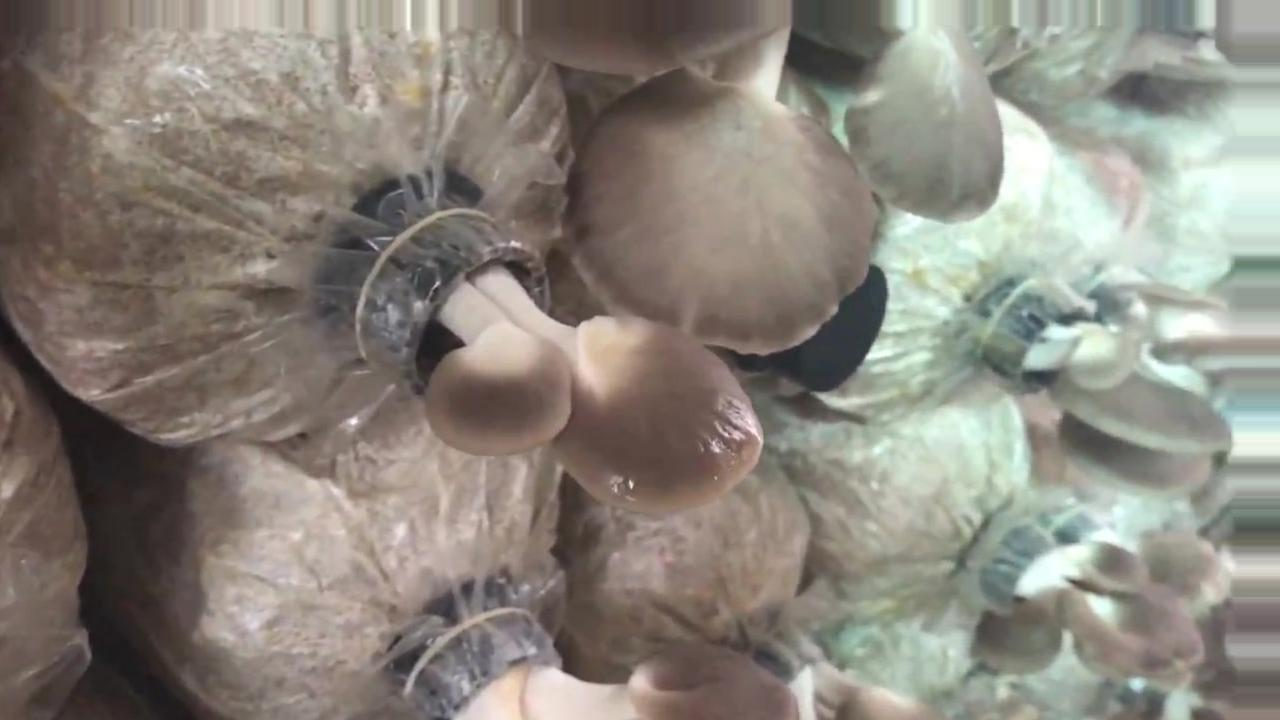nam: (520, 1, 1000, 362), (332, 193, 763, 517), (975, 275, 1242, 502), (399, 598, 794, 720), (967, 496, 1210, 684), (730, 617, 938, 720), (1055, 514, 1214, 600)
